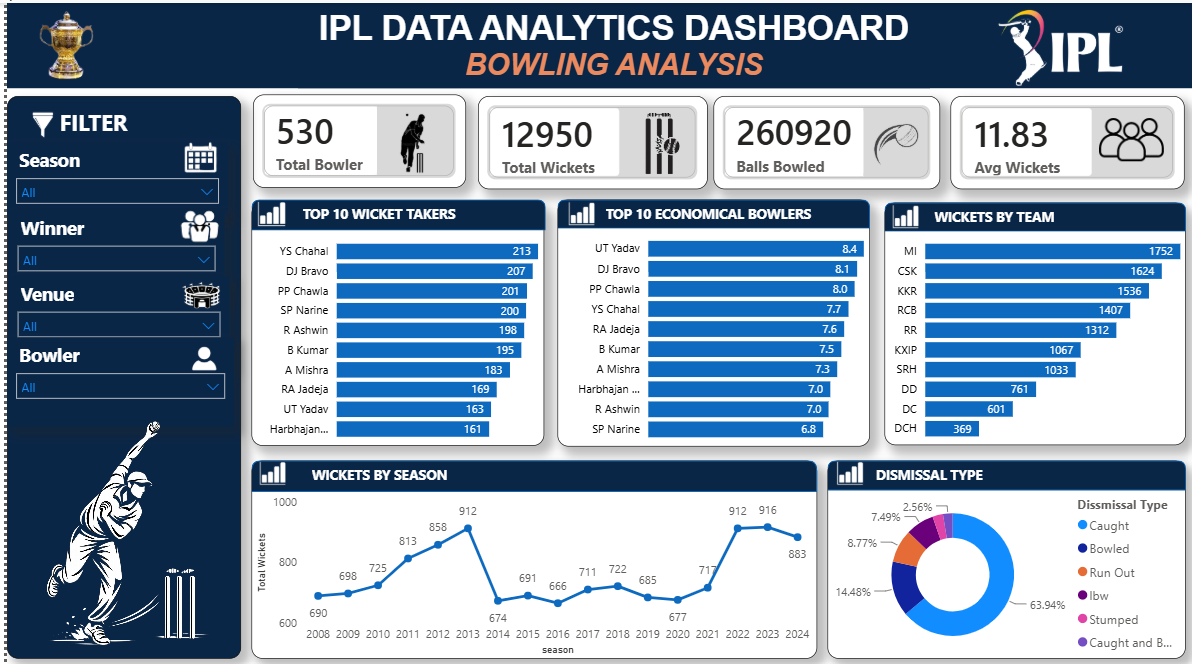

What the dashboard file says about the page in this screenshot:
{"tool":"powerbi","page":{"name":" Page 3","canvas":[1280,720],"ordinal":2},"visuals":[{"type":"shape","box":[0,0,1280.8,92.3],"z":0},{"type":"image","box":[0,0,126.3,92.3],"z":1000},{"type":"image","box":[995,4.9,285,87.4],"z":2000},{"type":"textbox","box":[314.1,0,681.7,92.3],"z":3000},{"type":"cardVisual","fields":{"Data":["deliveries.Total Bowler"]},"box":[265.6,98.8,229.9,100.4],"z":4000},{"type":"cardVisual","fields":{"Data":["deliveries.Total Wickets1"]},"box":[508.4,100.4,247.7,100.4],"z":5000},{"type":"cardVisual","fields":{"Data":["deliveries.Total Balls Bowled"]},"box":[762.7,100.4,244.5,100.4],"z":6000},{"type":"cardVisual","fields":{"Data":["deliveries.Average Wickets per Match"]},"box":[1018.5,100.4,252.6,100.4],"z":7000},{"type":"shape","box":[0,100.4,252.6,607.2],"z":8000},{"type":"image","box":[0,113.3,76.7,35],"z":9000},{"type":"slicer","fields":{"Values":["matches_clean.season"]},"box":[0,150,238.3,80],"z":10000},{"type":"slicer","fields":{"Values":["matches_clean.winner - Sort"]},"box":[1.7,223.3,233.3,96.7],"z":11000},{"type":"slicer","fields":{"Values":["matches_clean.venue"]},"box":[1.7,295,238.3,98.3],"z":12000},{"type":"image","box":[185,140,48.3,58.3],"z":13000},{"type":"image","box":[178.3,210,60,61.7],"z":14000},{"type":"image","box":[160.1,282.4,97.5,72.8],"z":15000},{"type":"slicer","fields":{"Values":["deliveries.bowler"]},"box":[0,361.7,245,96.7],"z":16000},{"type":"clusteredBarChart","title":"Top Teams by Wins","fields":{"Category":["deliveries.bowler"],"Y":["deliveries.Total Wickets"]},"box":[264.7,215.7,315.7,262.7],"z":17000},{"type":"shape","box":[264.7,211.8,317.6,33.3],"z":18000},{"type":"image","box":[239.2,196.1,92.2,68.6],"z":19000},{"type":"clusteredBarChart","title":"Top Teams by Wins","fields":{"Category":["deliveries.bowler"],"Y":["deliveries.Economy Rate"]},"box":[594.1,211.8,337.3,266.7],"z":20000},{"type":"shape","box":[594.1,211.8,337.3,31.4],"z":21000},{"type":"clusteredBarChart","title":"Top Teams by Wins","fields":{"Category":["matches_clean.winner - Sort"],"Y":["deliveries.Total Wickets"]},"box":[947.2,215.4,325.5,262.3],"z":22000},{"type":"lineChart","fields":{"Category":["matches_clean.season"],"Y":["deliveries.Total Wickets"]},"box":[263.9,493.9,610.4,213.7],"z":23000},{"type":"donutChart","fields":{"Category":["deliveries.dismissal_kind"],"Y":["CountNonNull(deliveries.dismissal_kind)"]},"box":[885.7,493.9,387,213.7],"z":24000},{"type":"textbox","box":[313.7,211.8,249,31.4],"z":25000},{"type":"textbox","box":[640.6,211.7,232.4,32.1],"z":26000},{"type":"image","box":[582.4,198,74.5,64.7],"z":27000},{"type":"shape","box":[947.1,215.7,325.5,31.4],"z":28000},{"type":"image","box":[933.3,200,74.5,64.7],"z":29000},{"type":"textbox","box":[995.9,215.4,253.2,32.1],"z":30000},{"type":"shape","box":[263.9,493.9,610.4,34],"z":31000},{"type":"shape","box":[885.7,493.9,387,32.4],"z":32000},{"type":"image","box":[249,478.4,74.5,64.7],"z":33000},{"type":"textbox","box":[323.8,493.9,171.6,34],"z":34000},{"type":"textbox","box":[932.7,493.9,176.5,32.4],"z":35000},{"type":"image","box":[872.8,477.7,74.5,64.8],"z":36000},{"type":"image","box":[160,358.3,105,51.7],"z":37000},{"type":"textbox","box":[51.7,106.7,186.7,46.7],"z":38000},{"type":"image","box":[1179,106.3,69.9,81.5],"z":39000},{"type":"image","box":[916.5,113.3,87.4,74.5],"z":40000},{"type":"image","box":[364.3,115,147.3,72.9],"z":41000},{"type":"image","box":[633.1,106.9,149,89.1],"z":42000},{"type":"image","box":[0,437.2,234.8,281.7],"z":43000}]}

Visuals, with their boxes in screenshot pixels (x1, y1, x2, y2), scaled from the page's 1280x720 canvas onto the 1192x664 screenshot:
shape: Rect(0, 0, 1191, 85)
image: Rect(0, 0, 118, 85)
image: Rect(927, 5, 1191, 85)
textbox: Rect(293, 0, 927, 85)
cardVisual - deliveries.Total Bowler: Rect(247, 91, 461, 184)
cardVisual - deliveries.Total Wickets1: Rect(473, 93, 704, 185)
cardVisual - deliveries.Total Balls Bowled: Rect(710, 93, 938, 185)
cardVisual - deliveries.Average Wickets per Match: Rect(948, 93, 1184, 185)
shape: Rect(0, 93, 235, 653)
image: Rect(0, 104, 71, 137)
slicer - matches_clean.season: Rect(0, 138, 222, 212)
slicer - matches_clean.winner - Sort: Rect(2, 206, 219, 295)
slicer - matches_clean.venue: Rect(2, 272, 224, 363)
image: Rect(172, 129, 217, 183)
image: Rect(166, 194, 222, 251)
image: Rect(149, 260, 240, 328)
slicer - deliveries.bowler: Rect(0, 334, 228, 423)
"Top Teams by Wins" clusteredBarChart: Rect(247, 199, 540, 441)
shape: Rect(247, 195, 542, 226)
image: Rect(223, 181, 309, 244)
"Top Teams by Wins" clusteredBarChart: Rect(553, 195, 867, 441)
shape: Rect(553, 195, 867, 224)
"Top Teams by Wins" clusteredBarChart: Rect(882, 199, 1185, 441)
lineChart - matches_clean.season x deliveries.Total Wickets: Rect(246, 455, 814, 653)
donutChart - deliveries.dismissal_kind x CountNonNull(deliveries.dismissal_kind): Rect(825, 455, 1185, 653)
textbox: Rect(292, 195, 524, 224)
textbox: Rect(597, 195, 813, 225)
image: Rect(542, 183, 612, 242)
shape: Rect(882, 199, 1185, 228)
image: Rect(869, 184, 939, 244)
textbox: Rect(927, 199, 1163, 228)
shape: Rect(246, 455, 814, 487)
shape: Rect(825, 455, 1185, 485)
image: Rect(232, 441, 301, 501)
textbox: Rect(302, 455, 461, 487)
textbox: Rect(869, 455, 1033, 485)
image: Rect(813, 441, 882, 500)
image: Rect(149, 330, 247, 378)
textbox: Rect(48, 98, 222, 141)
image: Rect(1098, 98, 1163, 173)
image: Rect(853, 104, 935, 173)
image: Rect(339, 106, 476, 173)
image: Rect(590, 99, 728, 181)
image: Rect(0, 403, 219, 663)
